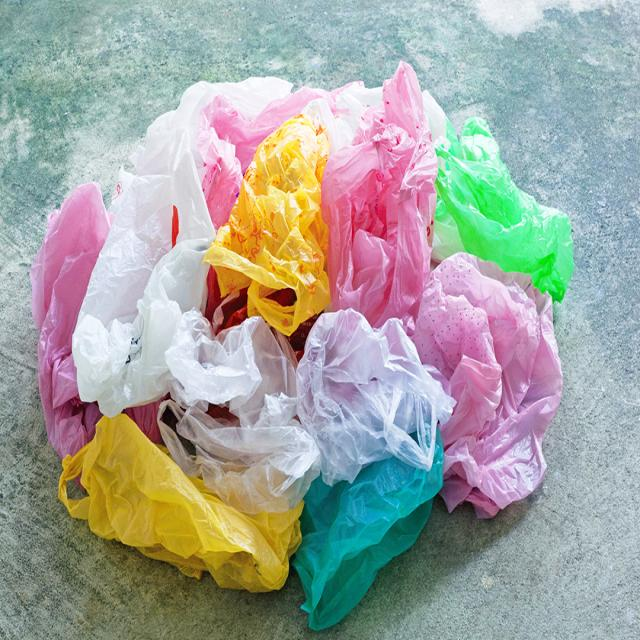Single-layer Plastic: (59, 414, 304, 592), (72, 129, 215, 415), (415, 253, 561, 518), (158, 309, 320, 514), (321, 62, 438, 334), (291, 429, 444, 630), (296, 309, 455, 485), (205, 114, 330, 336), (436, 118, 574, 301), (30, 182, 112, 458), (196, 86, 338, 230), (130, 77, 292, 176), (301, 84, 382, 155), (196, 111, 242, 230)
